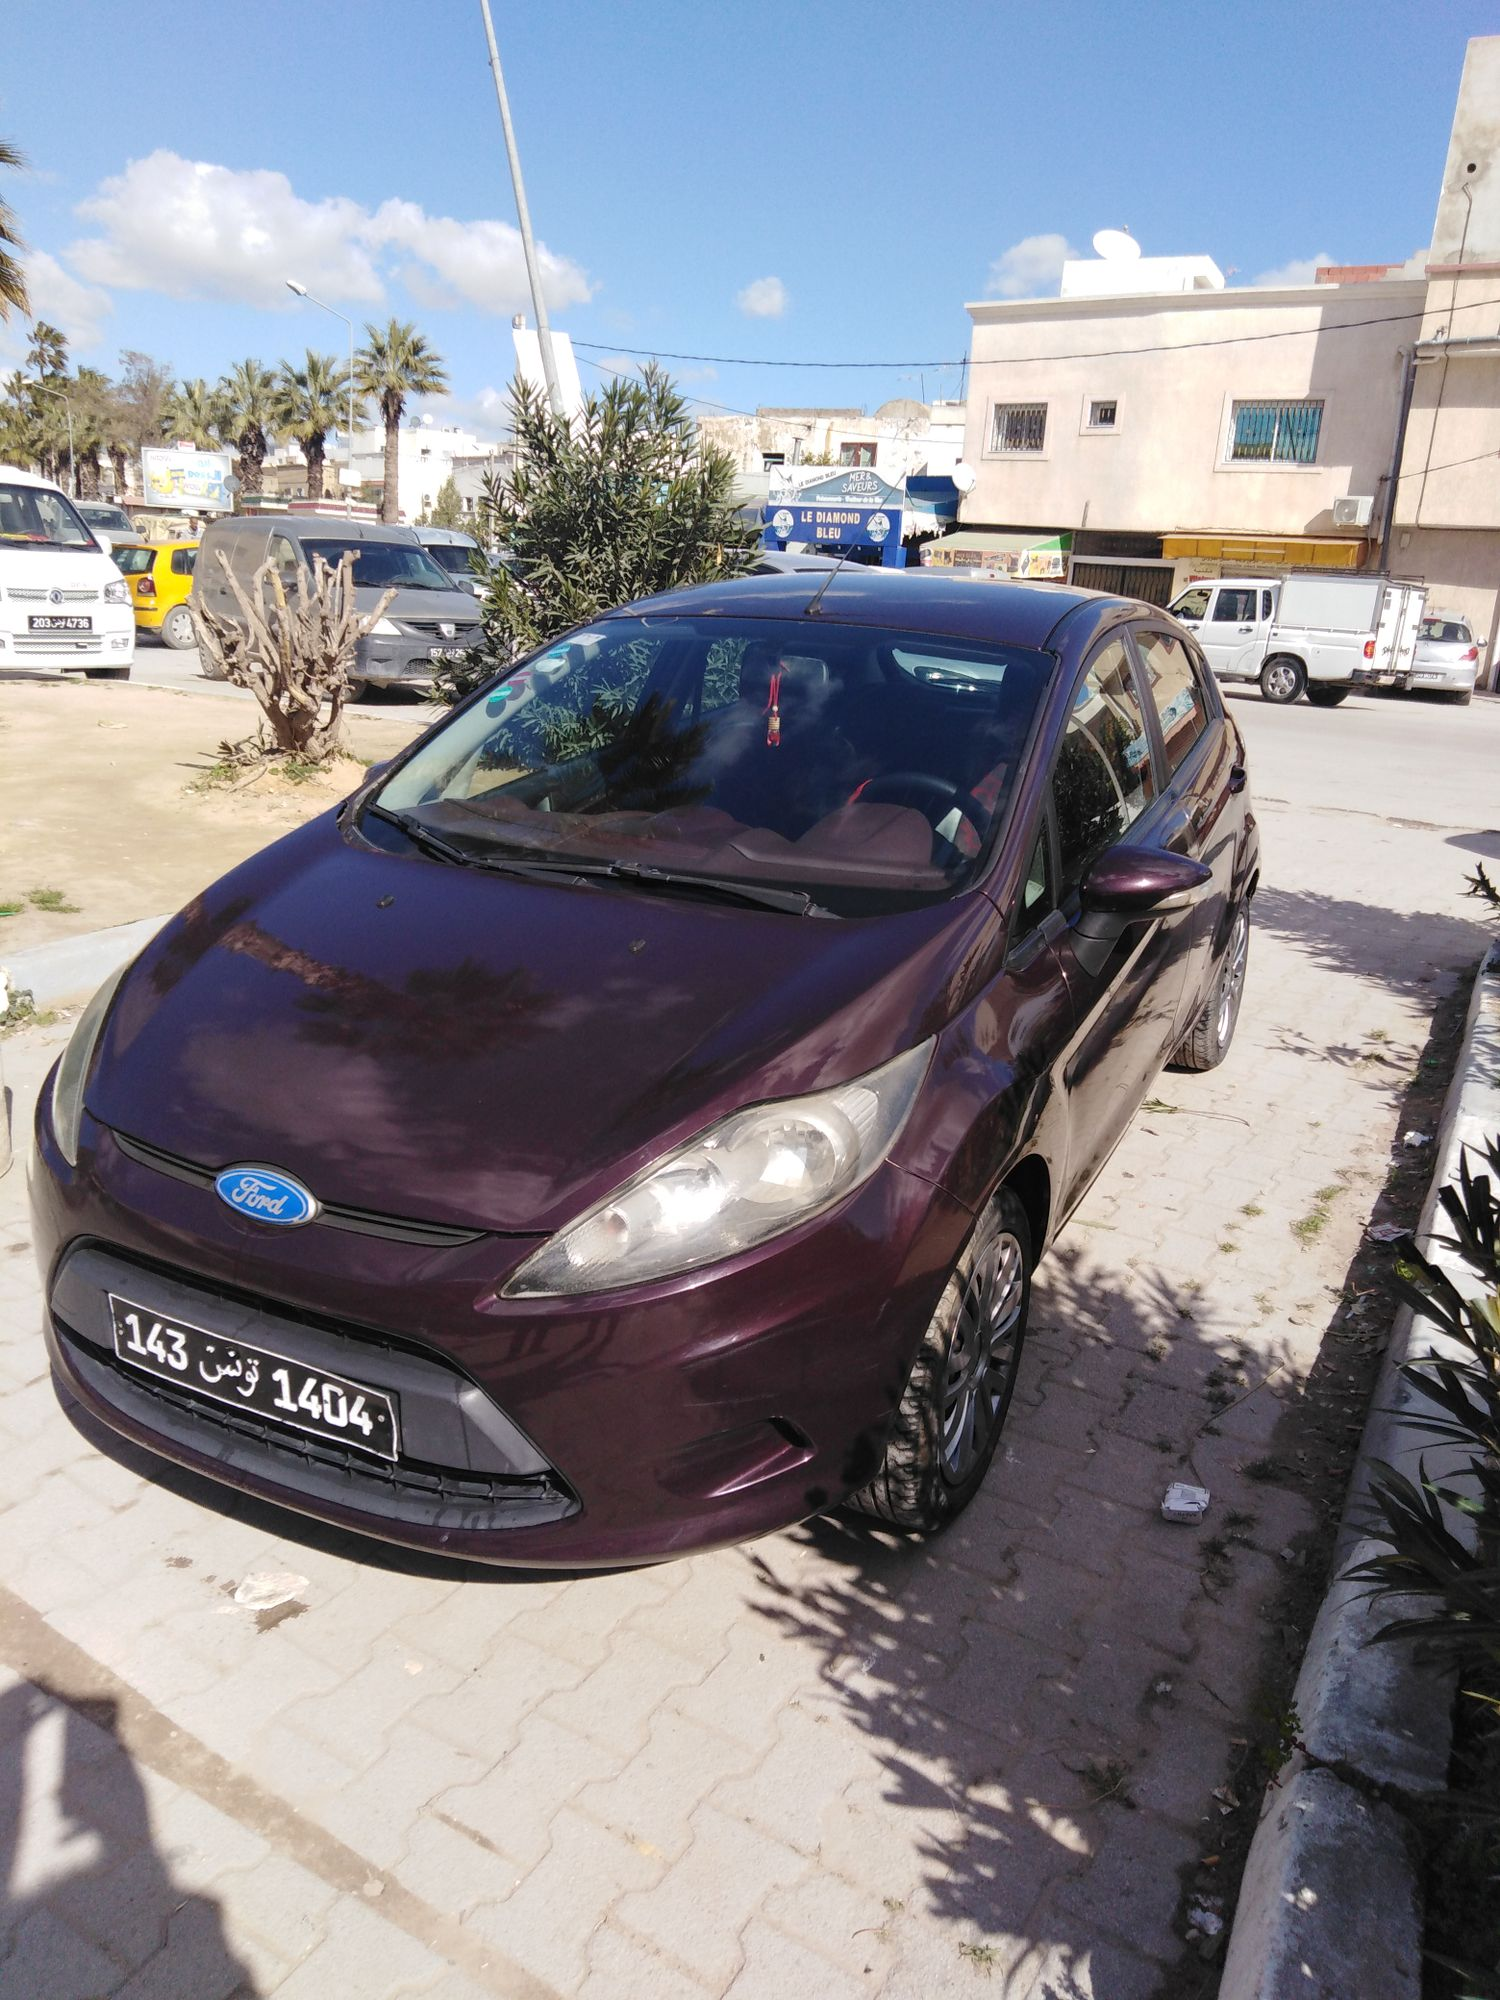LP: (106, 1289, 406, 1468)
